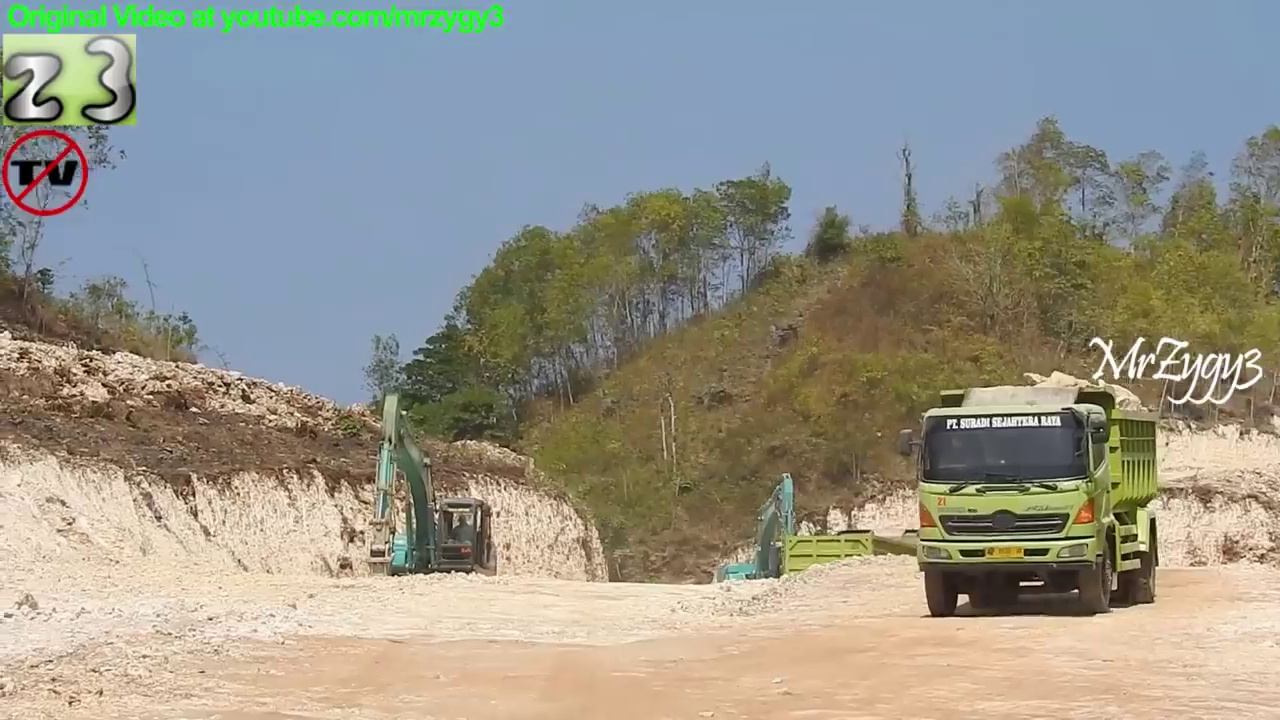excavator: (361, 381, 505, 606), (706, 465, 809, 607)
truck: (893, 375, 1168, 621), (777, 520, 975, 626)
